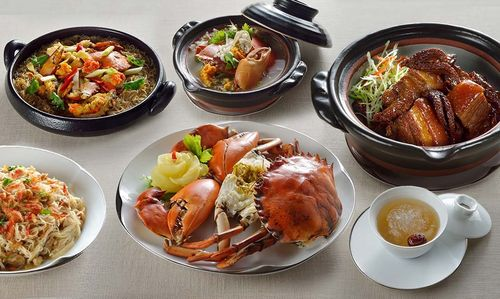food: (120, 117, 345, 267), (325, 29, 496, 168), (7, 15, 163, 132), (0, 144, 99, 277), (177, 4, 294, 114), (363, 180, 450, 263)
